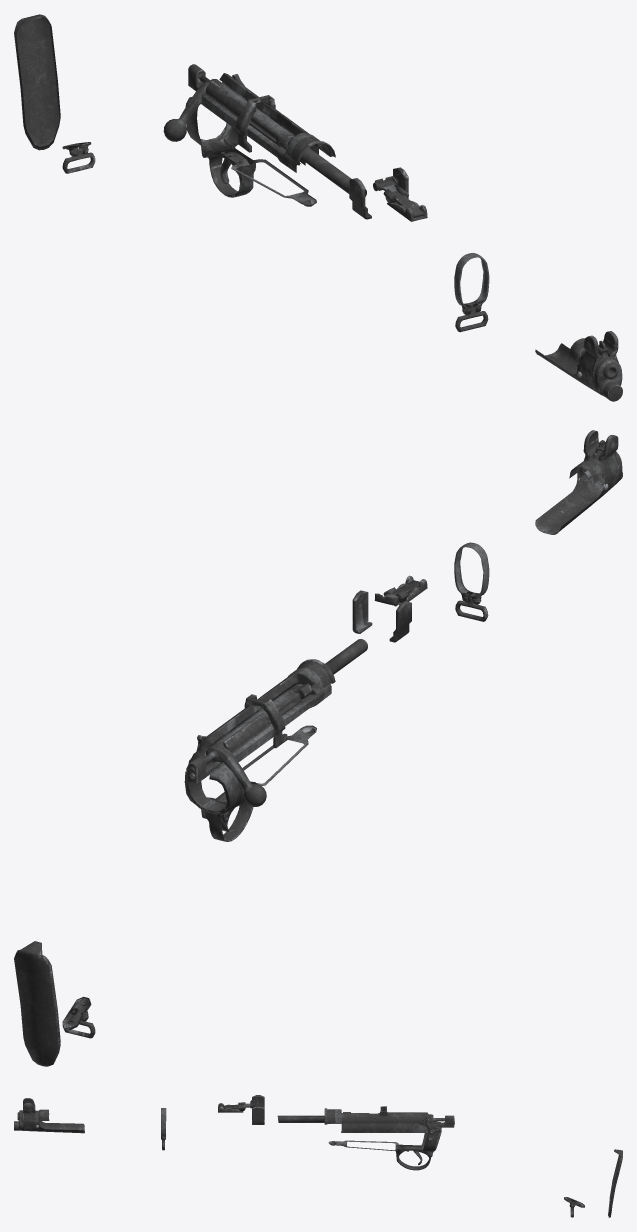
3 renders of one model, top to bottom at view 1: azimuth 30°, elevation 25°; view 2: azimuth 150°, elevation 25°; view 3: azimuth 270°, elevation 25°, orthographic. The views are drawn at different scales.
Parts seen in each view (by area): view 1: Object_7_Baked; view 2: Object_7_Baked; view 3: Object_7_Baked.
Part boxes in pixels (left/top/right/bottom): Object_7_Baked: left=14, top=14, right=622, bottom=401; Object_7_Baked: left=14, top=430, right=622, bottom=1066; Object_7_Baked: left=14, top=1095, right=622, bottom=1217.
Size of the model in its own units: 1.11 by 15.03 by 3.17.
1 material, 1 textured.
